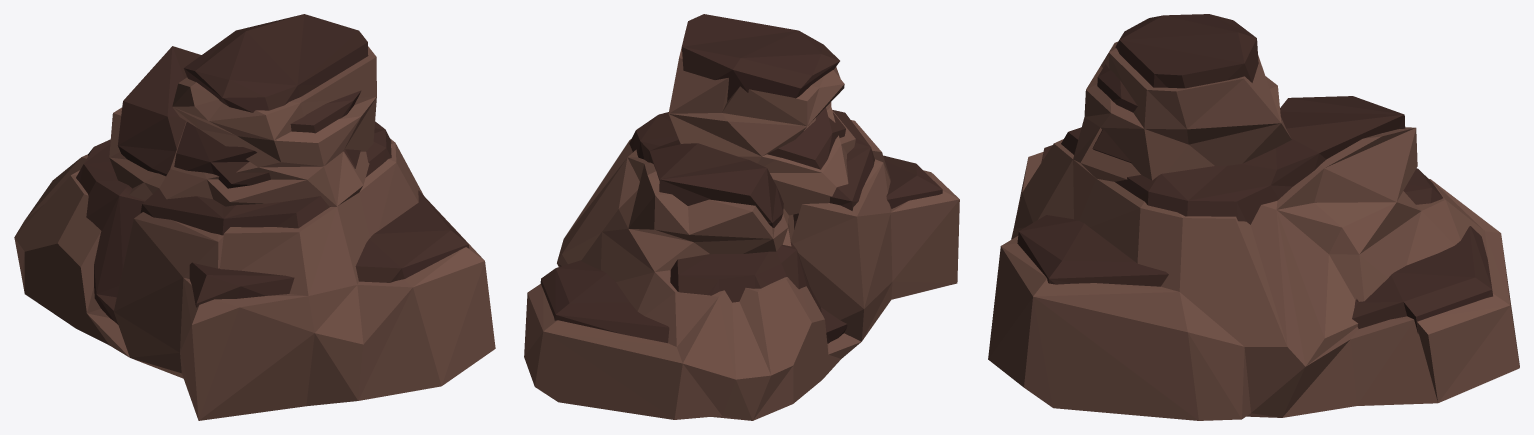
File: Brown_rock_018.fbx
3 renders of one model, left to right at view 1: azimuth 30°, elevation 25°; view 2: azimuth 150°, elevation 25°; view 3: azimuth 270°, elevation 25°, orthographic. The views are drawn at different scales.
Visible parts, largest first — view 1: Brown_rock_018; view 2: Brown_rock_018; view 3: Brown_rock_018.
Boxes of the visible parts, bbox=[...] form: Brown_rock_018: bbox=[14, 14, 495, 420]; Brown_rock_018: bbox=[524, 14, 959, 420]; Brown_rock_018: bbox=[988, 14, 1519, 420].
Size of the model in its own units: 1725 by 2340 by 1493.
